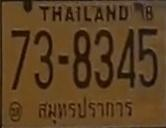3: (33, 30, 53, 88), (94, 30, 113, 88)
4: (116, 28, 135, 86)
5: (137, 27, 159, 87)
7: (10, 30, 31, 89)
8: (72, 30, 90, 88)
SPK: (35, 95, 136, 123)
